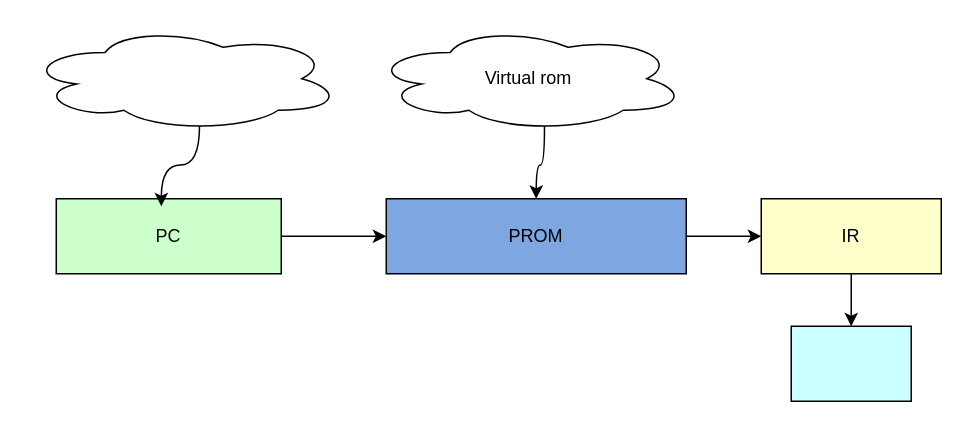
Image size: 968x428. Some labels were removed from this diagram. The shapes that lost their labels are listed below. From the top down, each one's centre as x and y in pixels, then its label:
pixel 183 78: Virtual PC control
pixel 850 363: DEC
